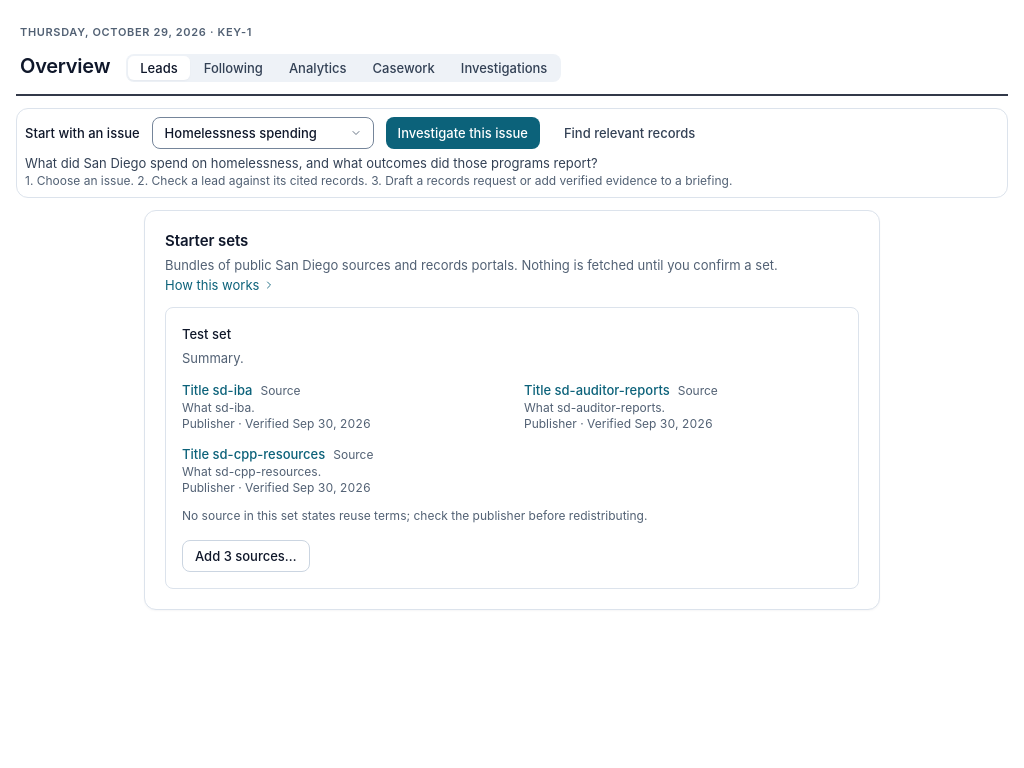
Test: first-run empty state › keeps adding after the first source unmounts the empty-state panel, and keeps the failure visible
Click the button "Add 3 sources…" at [246, 556], box [182,540,310,572]
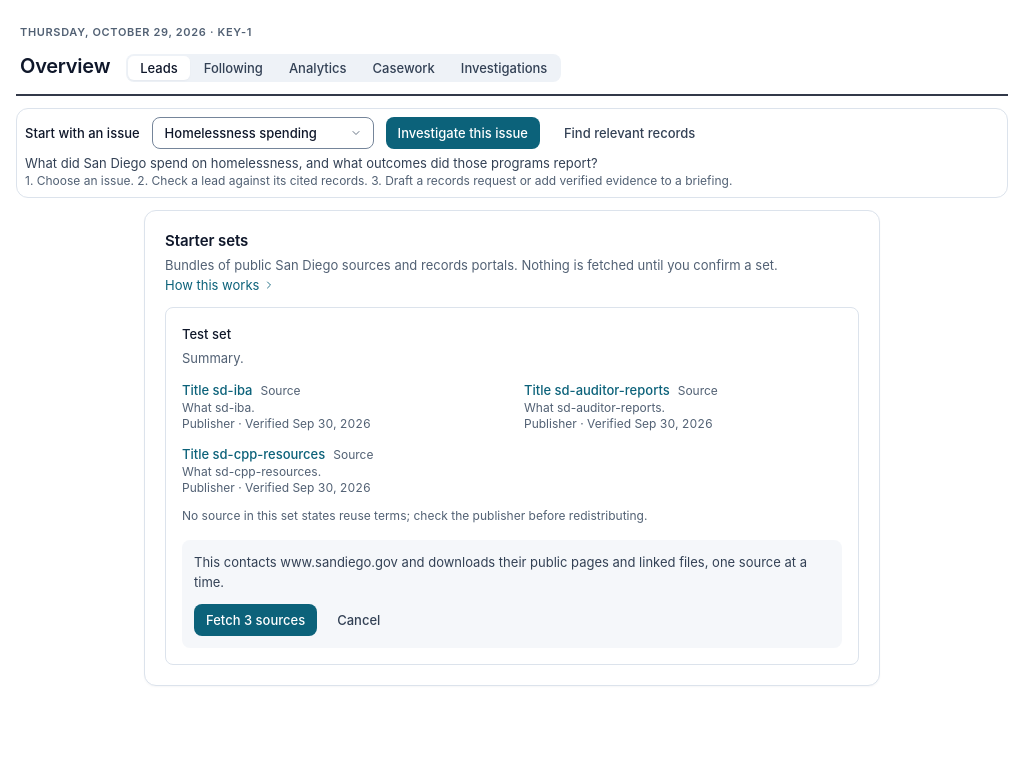
Click the button "Fetch 3 sources" at [256, 620], box [194,604,317,636]
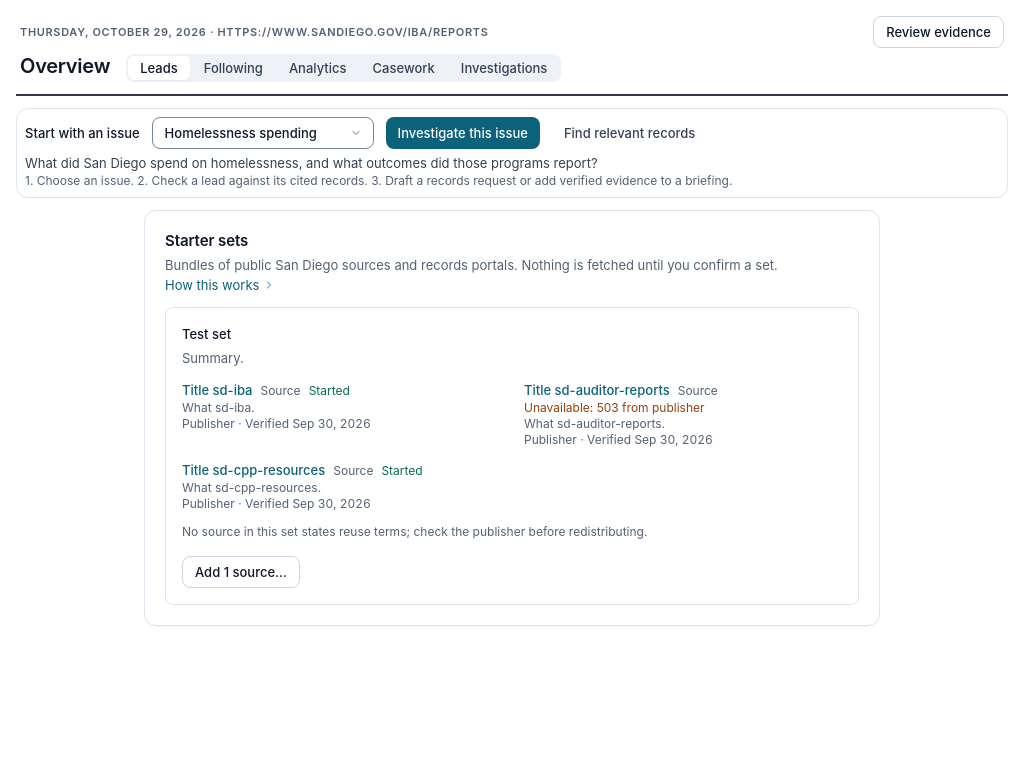
Now the text "Unavailable: 503 from publisher" is shown, box [524,400,704,416]
